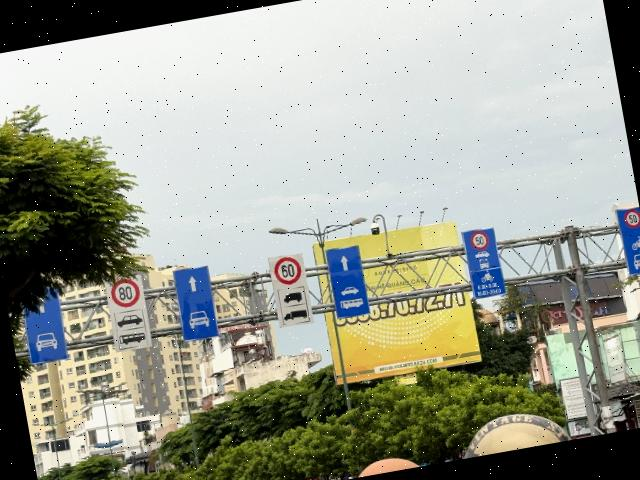toc-do-toi-da-cho-phep: (107, 276, 143, 310), (270, 254, 304, 286), (468, 228, 489, 251), (620, 207, 640, 229)
